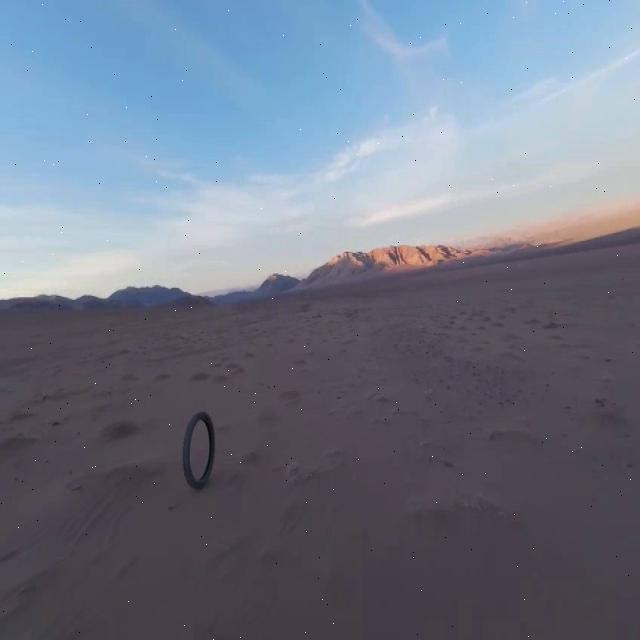Tire: (183, 411, 215, 489)
